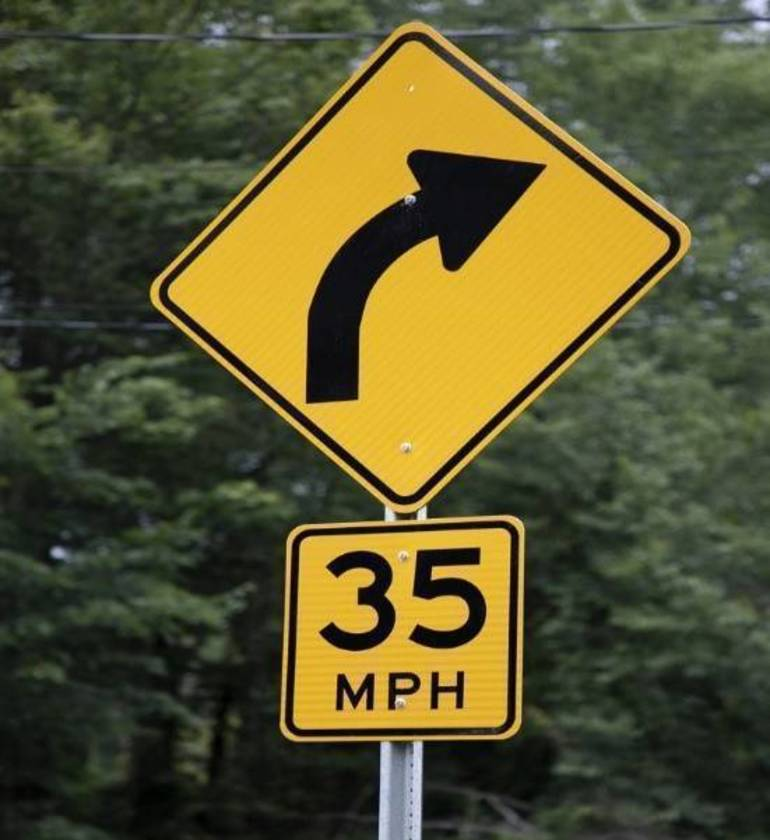right: (147, 18, 695, 519)
